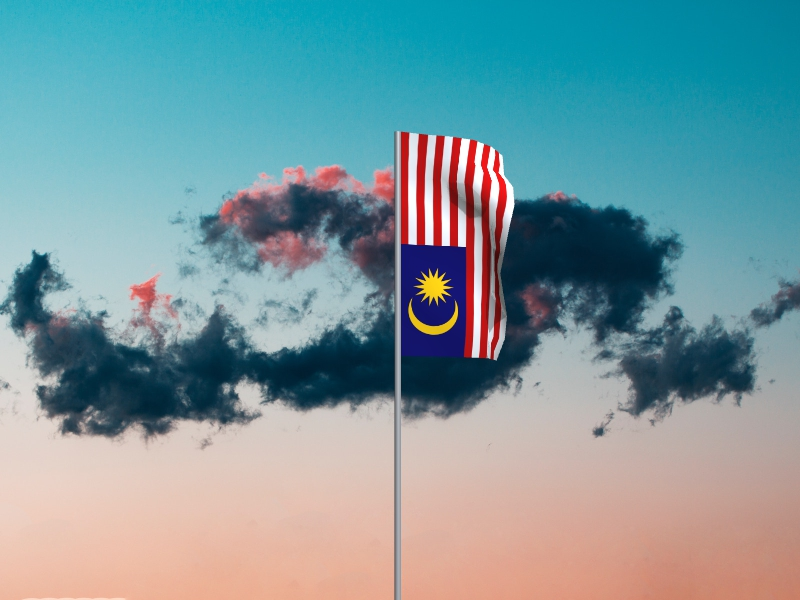my: (402, 132, 516, 363)
